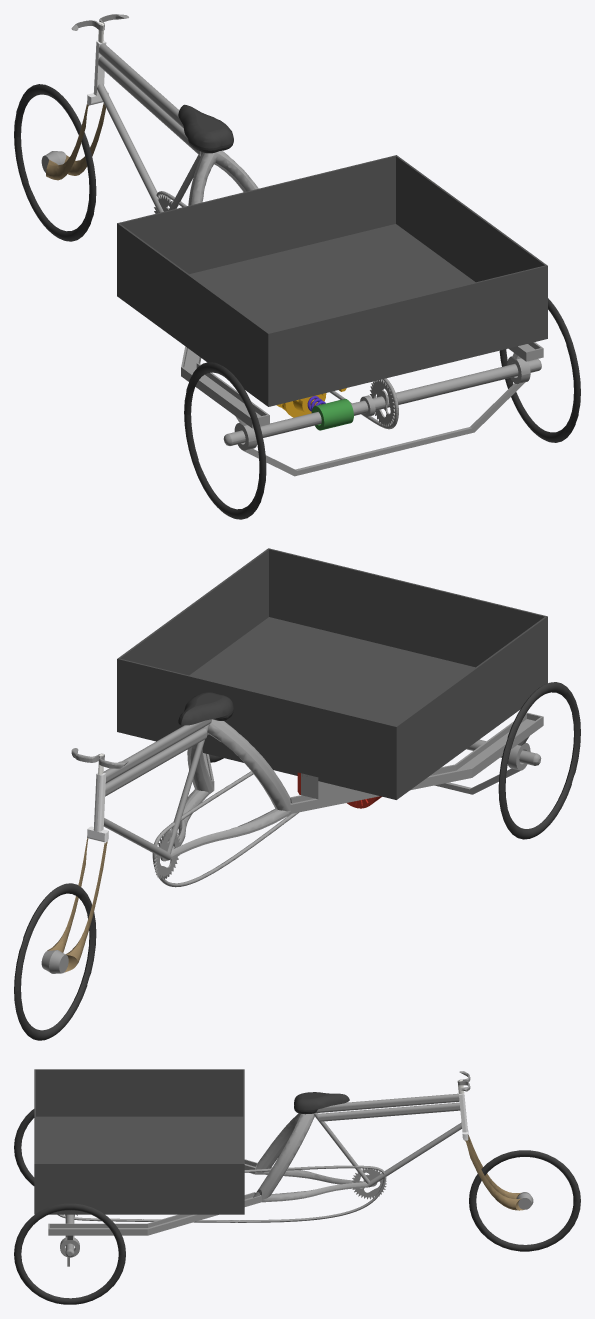
Rendered from tirare-cad.glb.glb.
The picture shows the model from 3 angles, top to bottom: view 1: azimuth 30°, elevation 25°; view 2: azimuth 150°, elevation 25°; view 3: azimuth 270°, elevation 25°; orthographic projection. The views are drawn at different scales.
Visible parts, largest first — view 1: empty_33, empty_21, empty_23, empty_2, empty_30, empty_24, empty_15, empty_13, empty_53, empty_12, empty_14, empty_18 (+4 smaller); view 2: empty_33, empty_53, empty_23, empty_2, empty_13, empty_52, empty_17, empty_15, empty_18, empty_31, empty_12, empty_55 (+4 smaller); view 3: empty_33, empty_24, empty_53, empty_2, empty_16, empty_13, empty_31, empty_17, empty_12, empty_15, empty_14, empty_23 (+4 smaller).
Part boxes in pixels (bbox=[...]): empty_33: bbox=[117, 155, 547, 406]; empty_21: bbox=[223, 359, 541, 445]; empty_23: bbox=[184, 362, 266, 519]; empty_2: bbox=[14, 84, 96, 241]; empty_30: bbox=[243, 382, 524, 476]; empty_24: bbox=[499, 298, 580, 442]; empty_15: bbox=[178, 104, 233, 153]; empty_13: bbox=[98, 56, 202, 210]; empty_53: bbox=[188, 151, 258, 205]; empty_12: bbox=[99, 43, 183, 128]; empty_14: bbox=[97, 83, 163, 212]; empty_18: bbox=[181, 348, 269, 428]; empty_33: bbox=[117, 548, 547, 799]; empty_53: bbox=[187, 719, 318, 811]; empty_23: bbox=[498, 682, 580, 839]; empty_2: bbox=[14, 883, 96, 1040]; empty_13: bbox=[105, 724, 209, 854]; empty_52: bbox=[301, 758, 486, 804]; empty_17: bbox=[170, 789, 290, 859]; empty_15: bbox=[178, 692, 233, 725]; empty_18: bbox=[291, 719, 543, 813]; empty_31: bbox=[152, 771, 298, 887]; empty_12: bbox=[103, 719, 211, 782]; empty_55: bbox=[455, 712, 543, 768]; empty_33: bbox=[34, 1069, 244, 1214]; empty_24: bbox=[14, 1203, 125, 1304]; empty_53: bbox=[244, 1113, 314, 1204]; empty_2: bbox=[469, 1150, 580, 1251]; empty_16: bbox=[48, 1214, 217, 1235]; empty_13: bbox=[313, 1102, 460, 1183]; empty_31: bbox=[57, 1165, 386, 1222]; empty_17: bbox=[262, 1167, 368, 1202]; empty_12: bbox=[315, 1093, 459, 1112]; empty_15: bbox=[294, 1092, 349, 1114]; empty_14: bbox=[367, 1122, 461, 1187]; empty_23: bbox=[14, 1109, 34, 1185].
Size of the model in its own units: 183 by 135 by 405.
